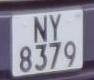3: (33, 43, 50, 73)
7: (47, 39, 65, 73)
8: (16, 42, 34, 77)
9: (62, 38, 79, 72)
N: (31, 13, 50, 48)
Y: (47, 13, 66, 45)
